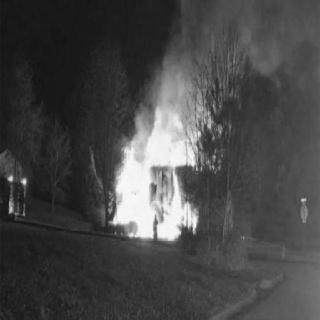Fire: (118, 89, 211, 243)
Smoke: (177, 4, 271, 84)
